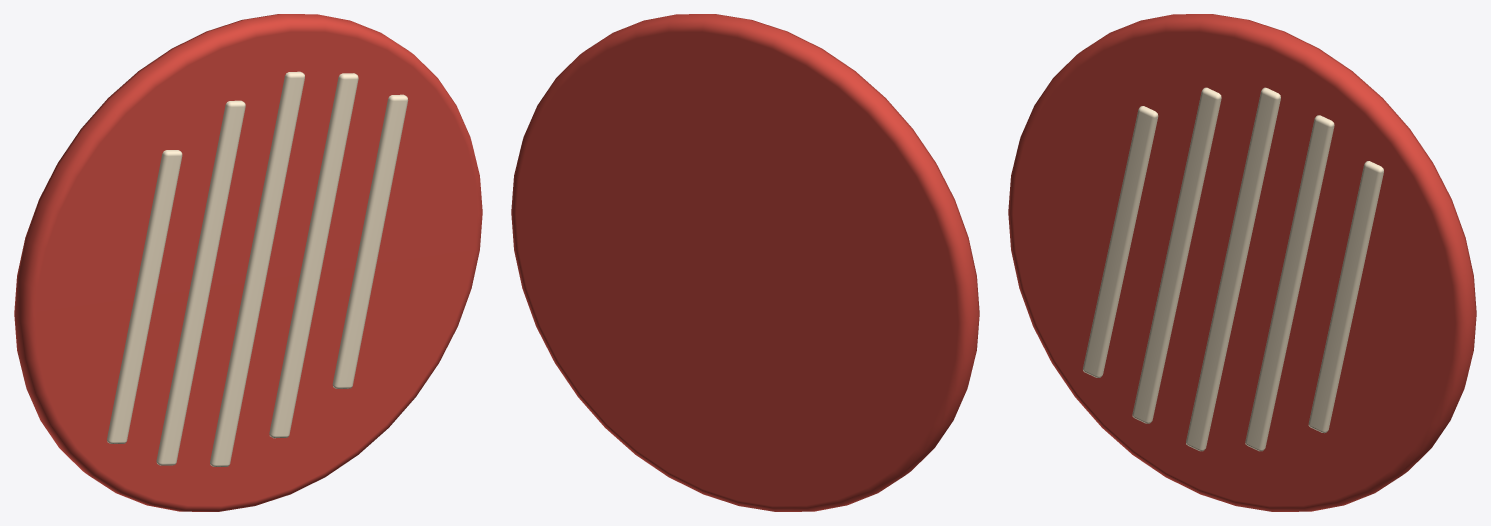
Rendered from A06_BounceInsert.fbx.
3 renders of one model, left to right at view 1: azimuth 30°, elevation 25°; view 2: azimuth 150°, elevation 25°; view 3: azimuth 330°, elevation 25°, orthographic.
Visible parts, largest first — view 1: Membrane, Bounce_Rib.002, Bounce_Rib.001, Bounce_Rib.003, Bounce_Rib.004, Bounce_Rib; view 2: Membrane; view 3: Membrane, Bounce_Rib.002, Bounce_Rib.003, Bounce_Rib.001, Bounce_Rib.004, Bounce_Rib.
Boxes of the visible parts, box(x1,y1,x2,y2) form: Membrane: box(14, 14, 482, 511); Bounce_Rib.002: box(210, 71, 304, 466); Bounce_Rib.001: box(156, 100, 245, 465); Bounce_Rib.003: box(269, 73, 358, 438); Bounce_Rib.004: box(332, 94, 408, 388); Bounce_Rib: box(107, 150, 182, 443); Membrane: box(511, 14, 979, 511); Membrane: box(1008, 14, 1476, 511); Bounce_Rib.002: box(1186, 87, 1280, 451); Bounce_Rib.003: box(1245, 115, 1334, 451); Bounce_Rib.001: box(1132, 87, 1221, 423); Bounce_Rib.004: box(1308, 161, 1383, 433); Bounce_Rib: box(1083, 106, 1158, 377).
Bounding box in the file's own units: 0.098 × 0.098 × 0.00725.
